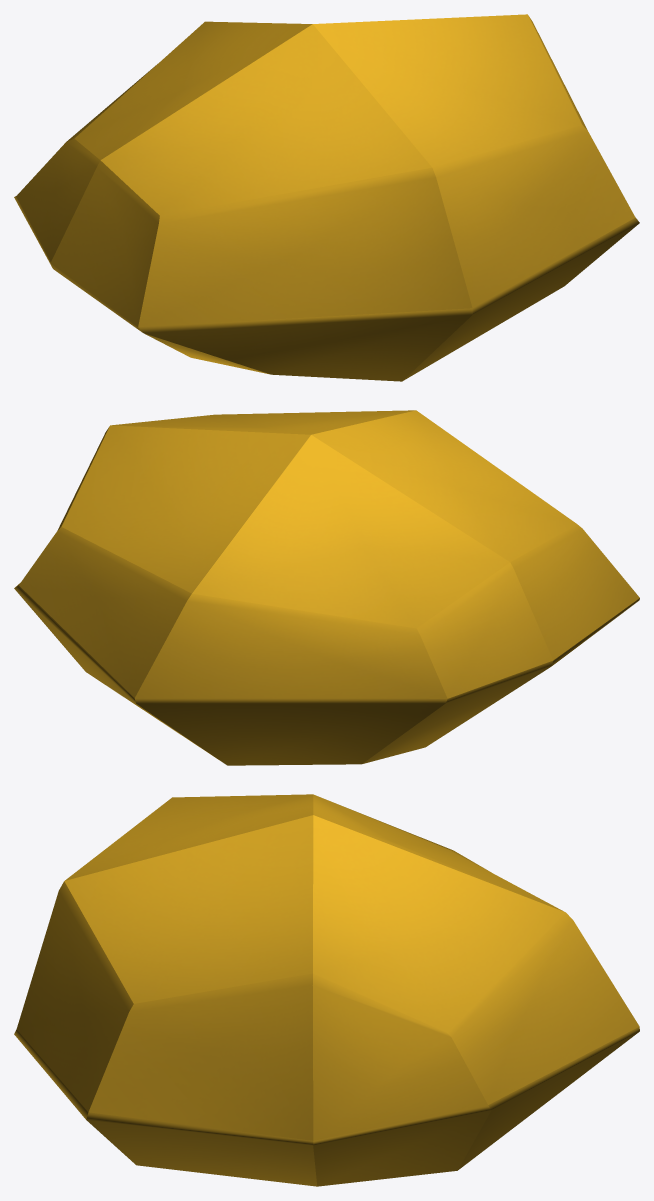
The model's file is Petit_rocher.fbx.
3 views of the same model, one above another, from view 1: azimuth 30°, elevation 25°; view 2: azimuth 150°, elevation 25°; view 3: azimuth 270°, elevation 25° (orthographic). The views are drawn at different scales.
Visible parts, largest first — view 1: pCube11; view 2: pCube11; view 3: pCube11.
Boxes of the visible parts, x1=… form: pCube11: x1=14, y1=14, x2=639, y2=381; pCube11: x1=14, y1=410, x2=639, y2=765; pCube11: x1=14, y1=794, x2=639, y2=1186.
Bounding box in the file's own units: 6.92 × 4.09 × 6.64.
